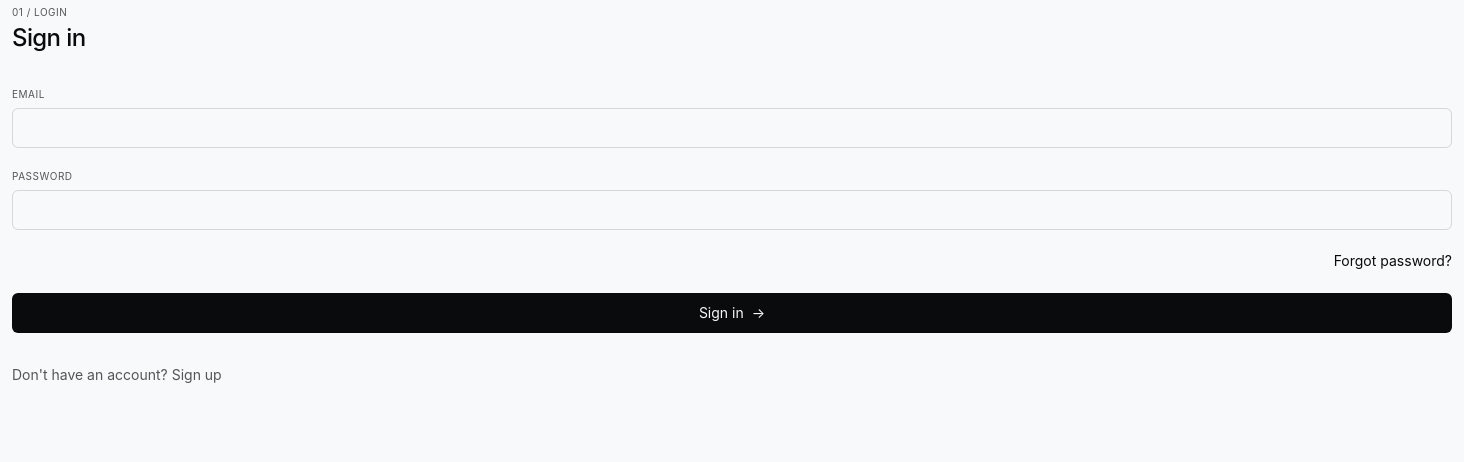
Test: shows an error and restores the login button when the auth request throws
This screenshot has width=1464, height=462.
Type "owner@example.com" into the field labelled "Email" at (732,128), box top-left (12, 108), bottom-right (1452, 148)
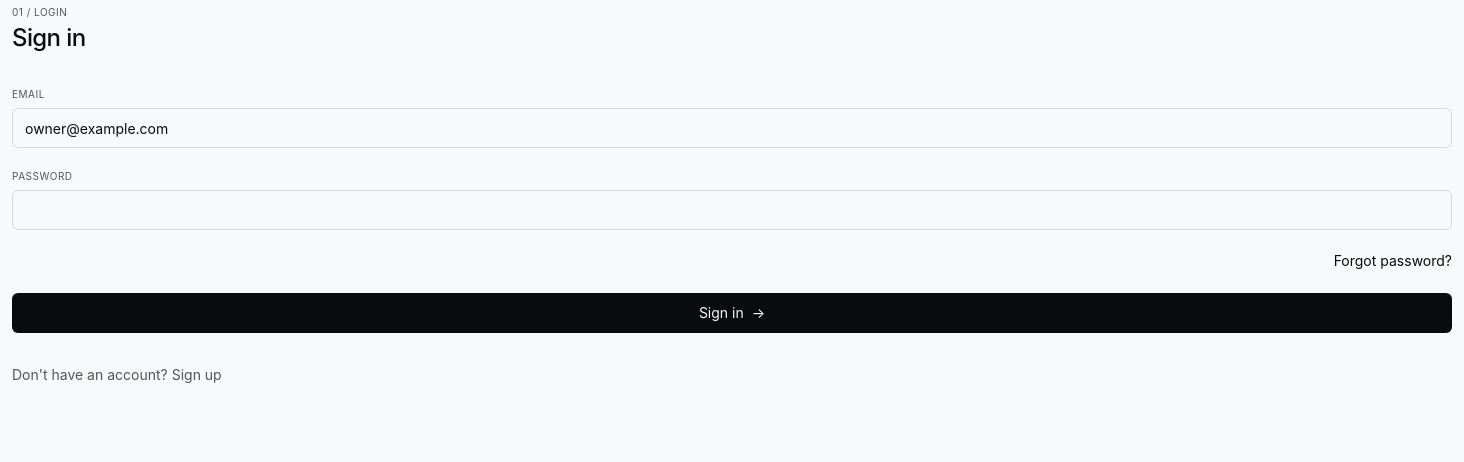
Type "password123" into the password field labelled "Password" at (732,210), box top-left (12, 190), bottom-right (1452, 230)
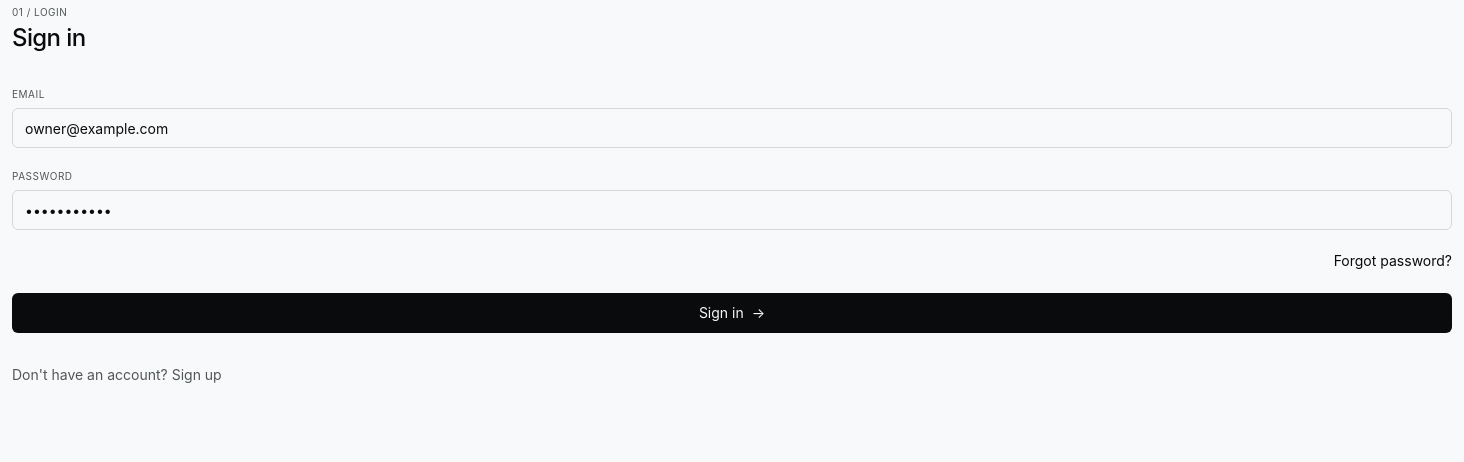
Click the button "Sign in →" at (732,313), box top-left (12, 293), bottom-right (1452, 333)
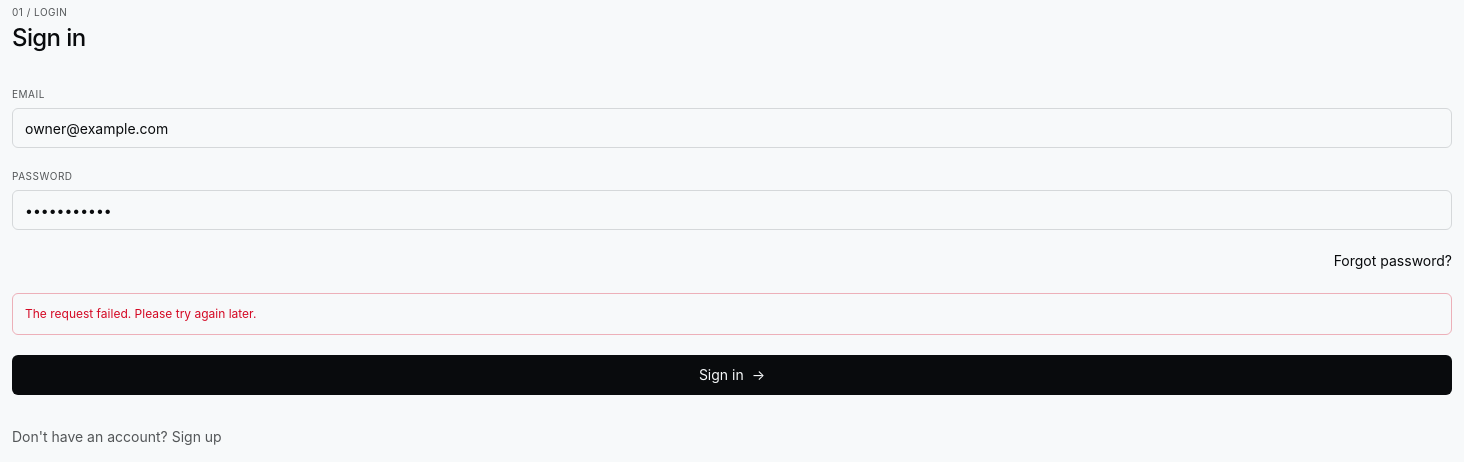
Expected: the button "Sign in →" is enabled, top-left (12, 355), bottom-right (1452, 395)
Expected: the message reads "The request failed. Please try again later.", top-left (25, 306), bottom-right (256, 321)
